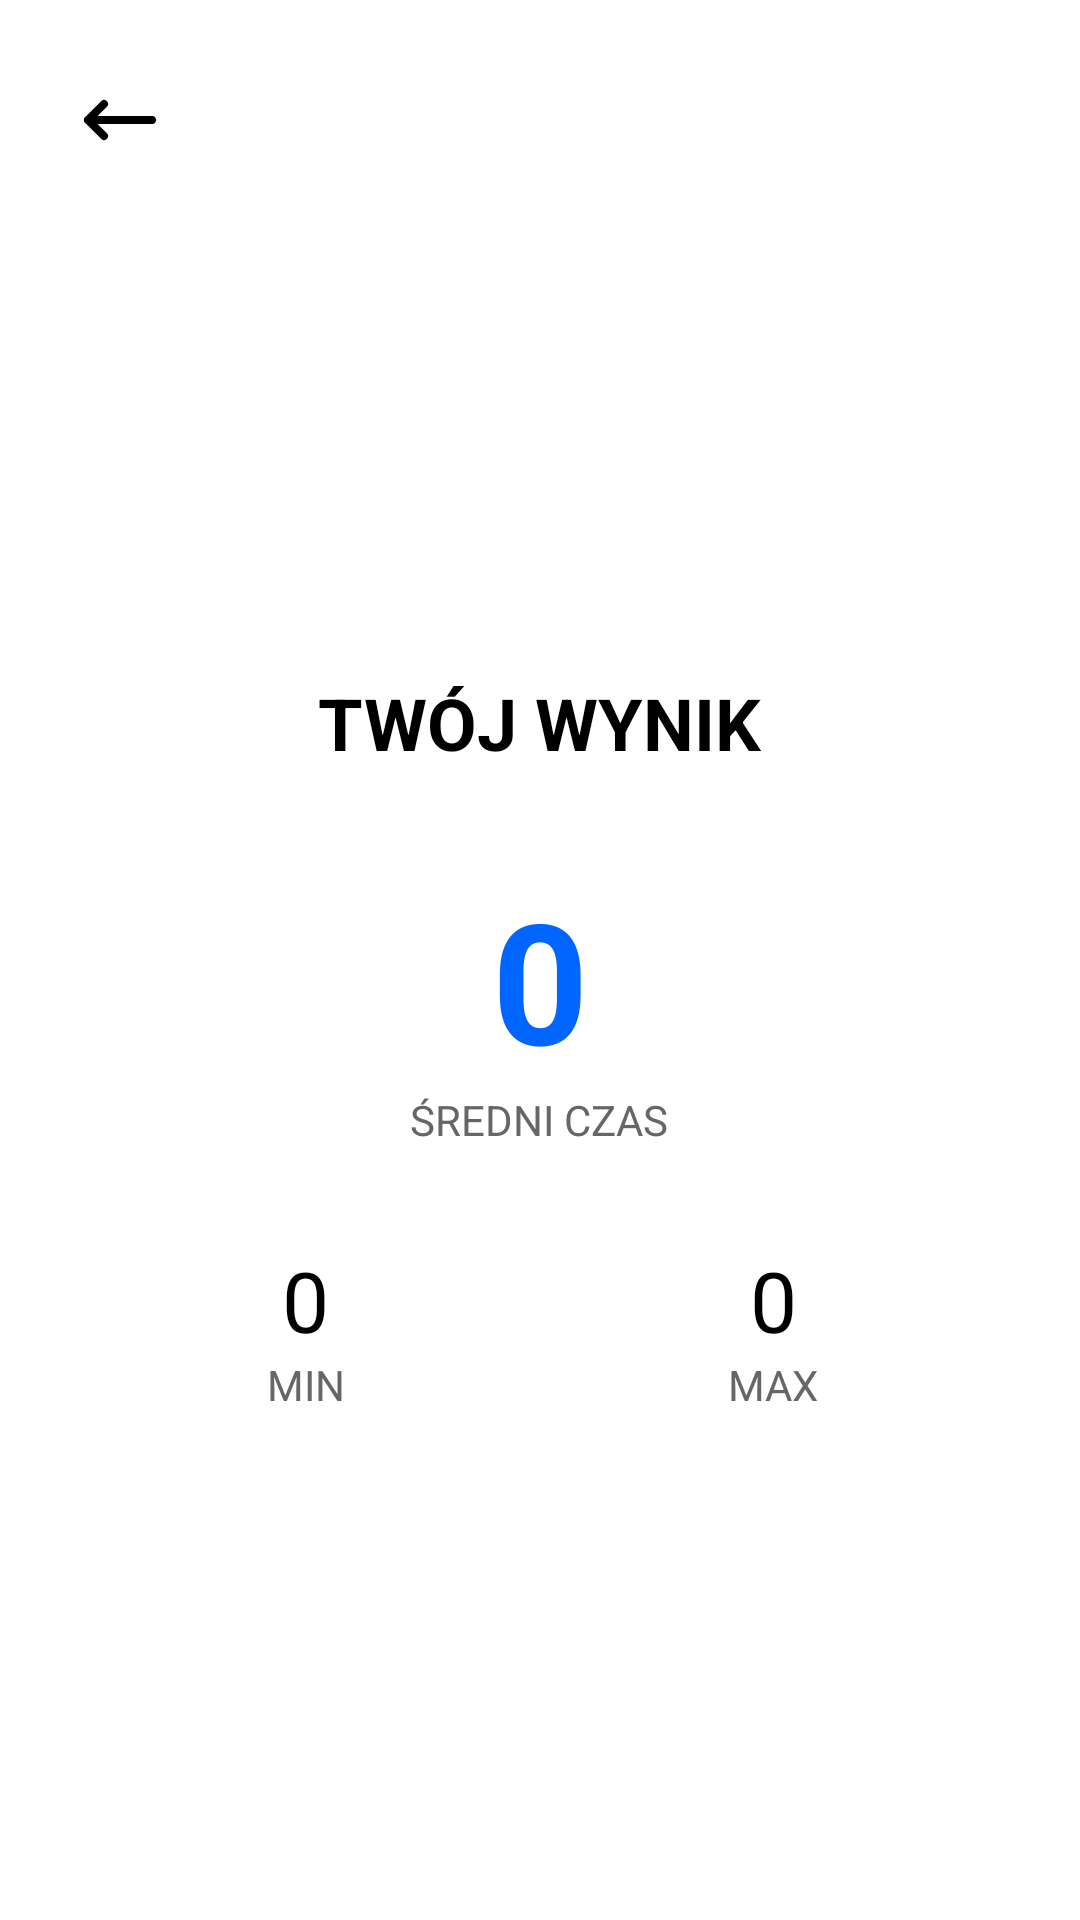

Where to tap for icons on this 1080px×1920px app screen, as point (x, y):
arrow: point (119, 120)
